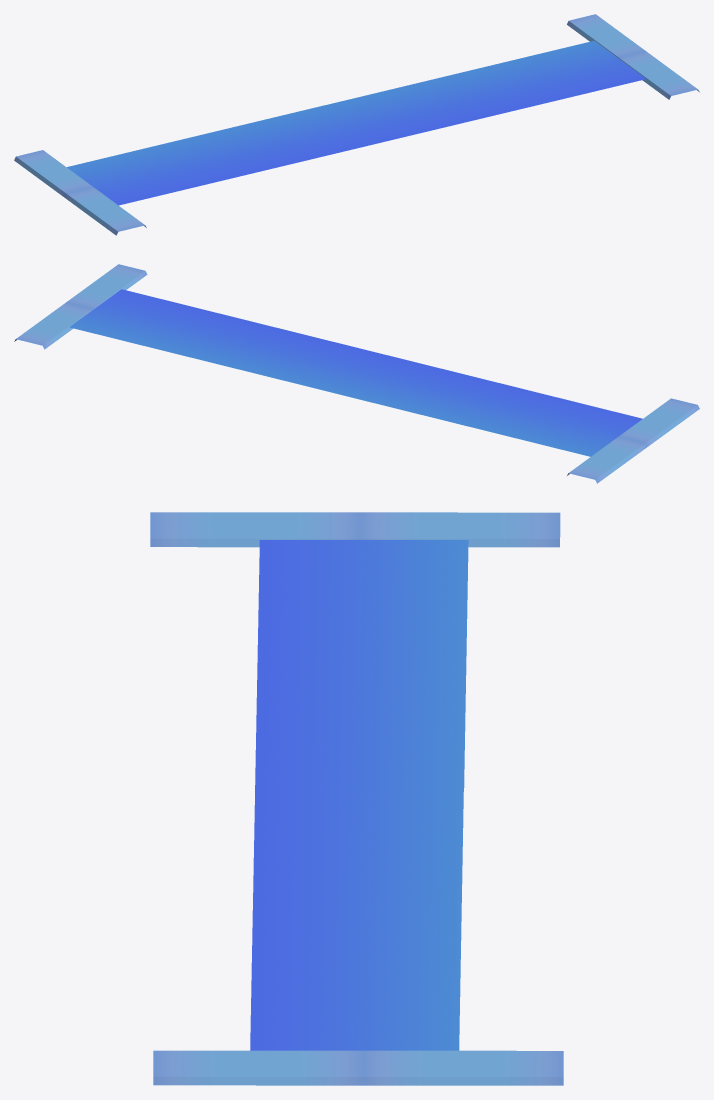
The model's file is Area_08_26.fbx.
3 views of the same model, one above another, from view 1: azimuth 30°, elevation 25°; view 2: azimuth 150°, elevation 25°; view 3: azimuth 270°, elevation 25° (orthographic). The views are drawn at different scales.
Visible parts, largest first — view 1: Area_08_26; view 2: Area_08_26; view 3: Area_08_26.
Boxes of the visible parts, x1,y1,x2,y2 form: Area_08_26: (14,14,699,235); Area_08_26: (14,264,699,483); Area_08_26: (150,512,563,1085).
Size of the model in its own units: 5024 by 29.72 by 1544.
